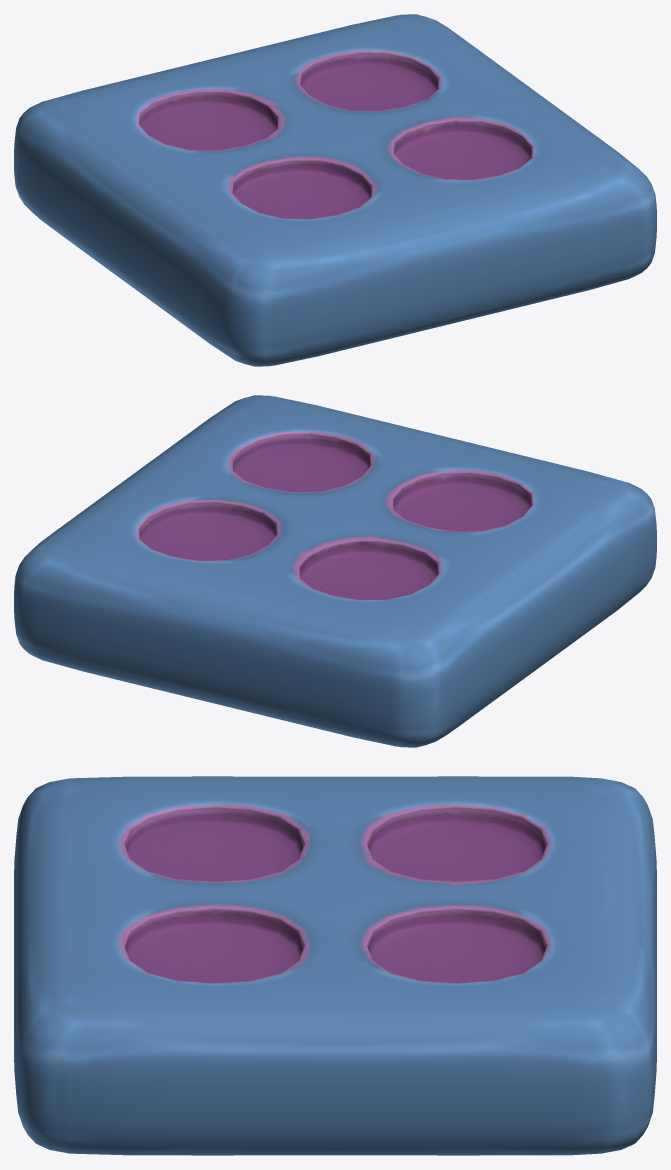
Rendered from arena block 3.fbx.
3 views of the same model, one above another, from view 1: azimuth 30°, elevation 25°; view 2: azimuth 150°, elevation 25°; view 3: azimuth 270°, elevation 25° (orthographic). The views are drawn at different scales.
Parts seen in each view (by area): view 1: arena block 3 lp; view 2: arena block 3 lp; view 3: arena block 3 lp.
Boxes of the visible parts, x1=… form: arena block 3 lp: x1=14, y1=14, x2=656, y2=366; arena block 3 lp: x1=14, y1=395, x2=656, y2=747; arena block 3 lp: x1=14, y1=776, x2=656, y2=1155.
Bounding box in the file's own units: 200 × 49.89 × 200.
